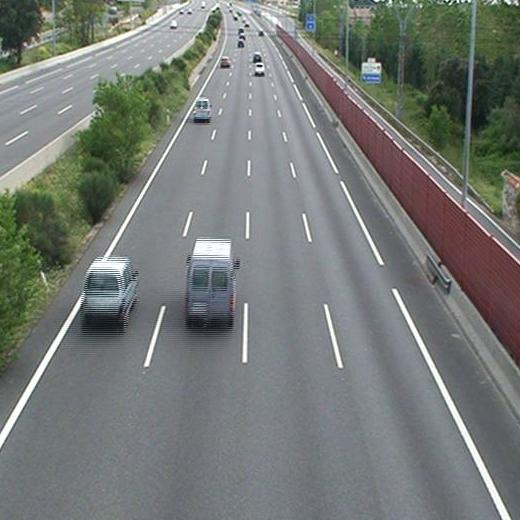car: (254, 63, 266, 74), (220, 56, 231, 67), (253, 53, 263, 61)
van: (185, 240, 234, 320), (83, 259, 137, 321), (194, 98, 211, 120)
